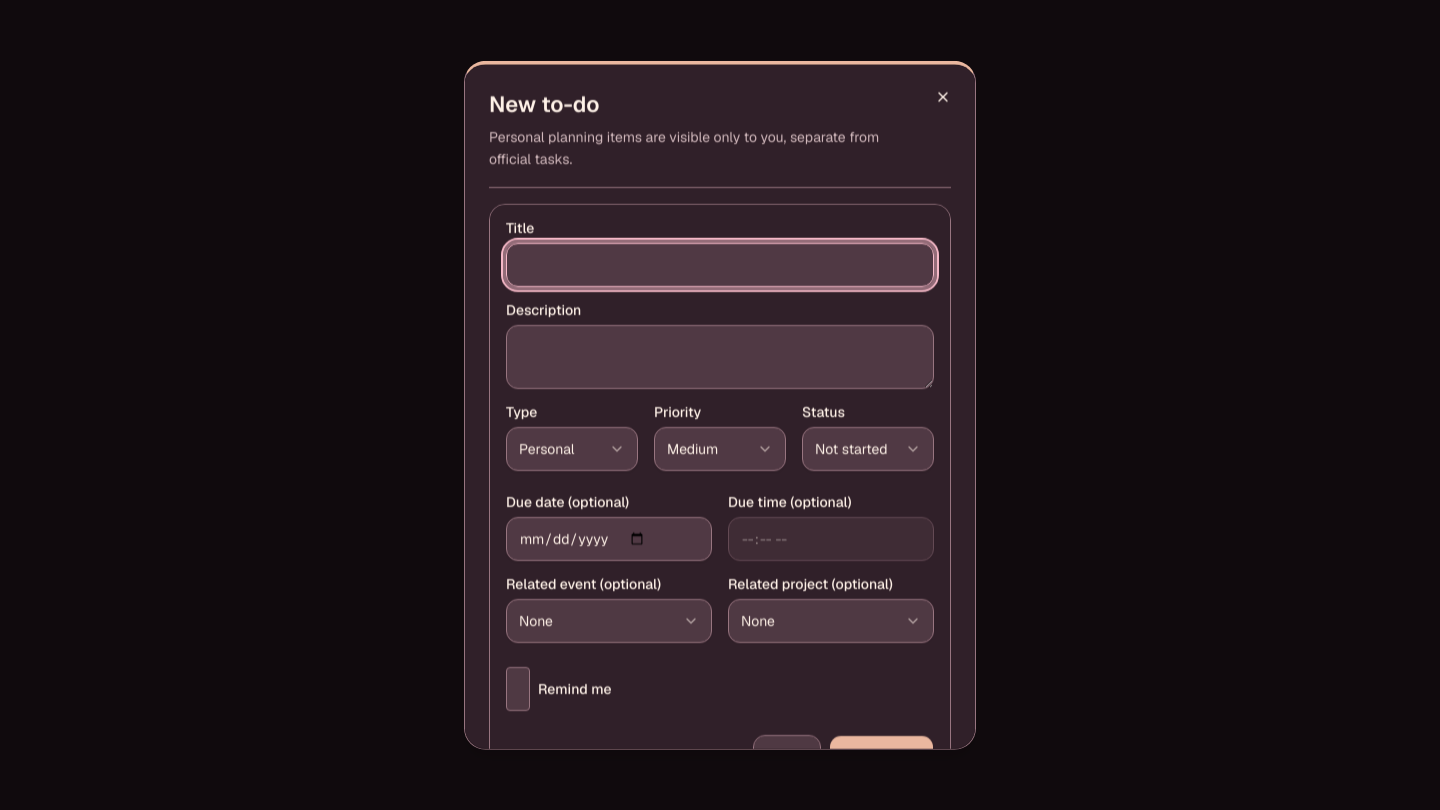
TodoDialog › requires a reminder time once 'Remind me' is checked
Type "Follow up" into the field labelled "Title" at (720, 264), box [506,242,934,286]
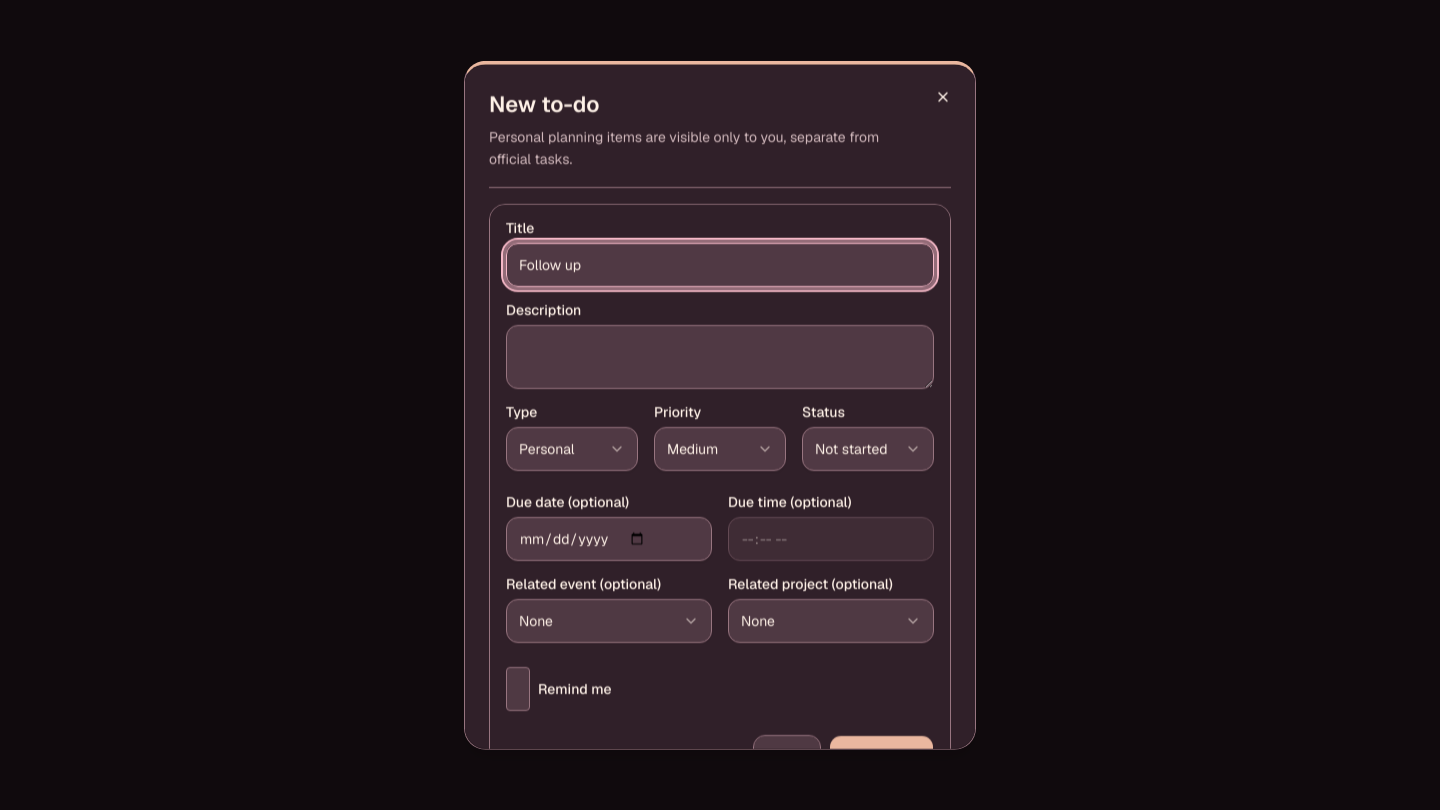
Click the checkbox named "Remind me" at (518, 688), box [506,666,530,710]
(page scrolled)
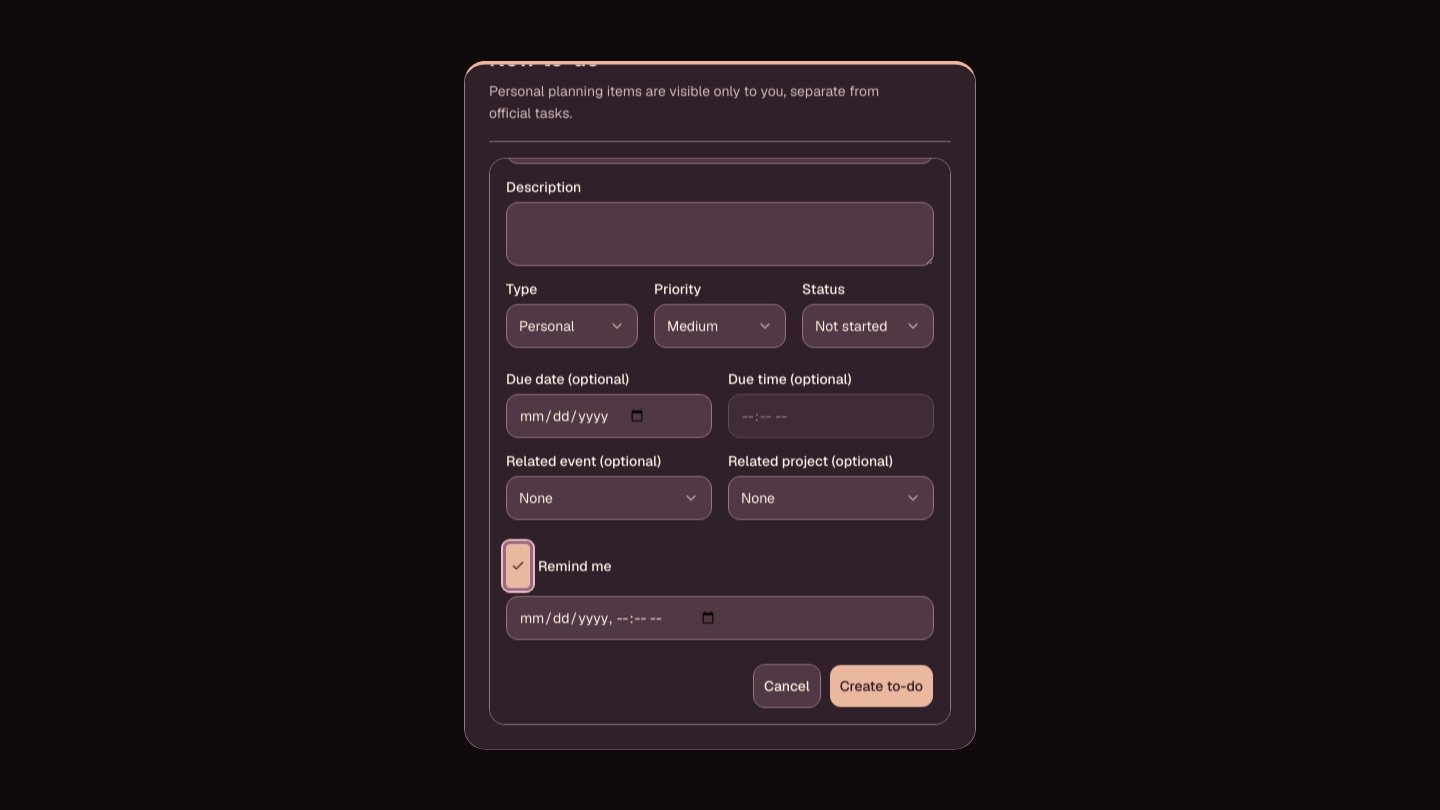
Click the button "Create to-do" at (881, 685), box [829,663,934,707]
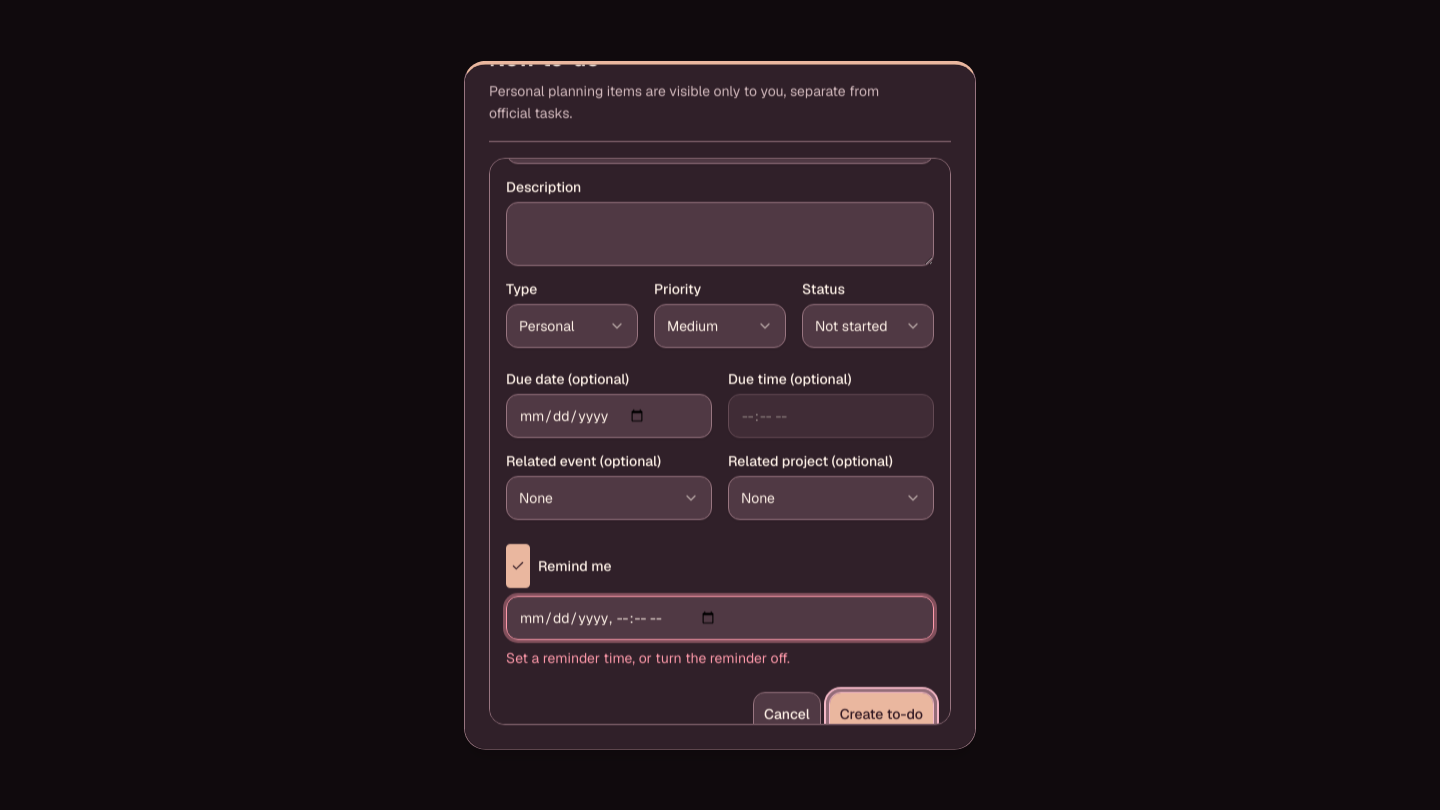
Check: the text "Set a reminder time, or turn the reminder off." is shown, box [506,648,790,666]
